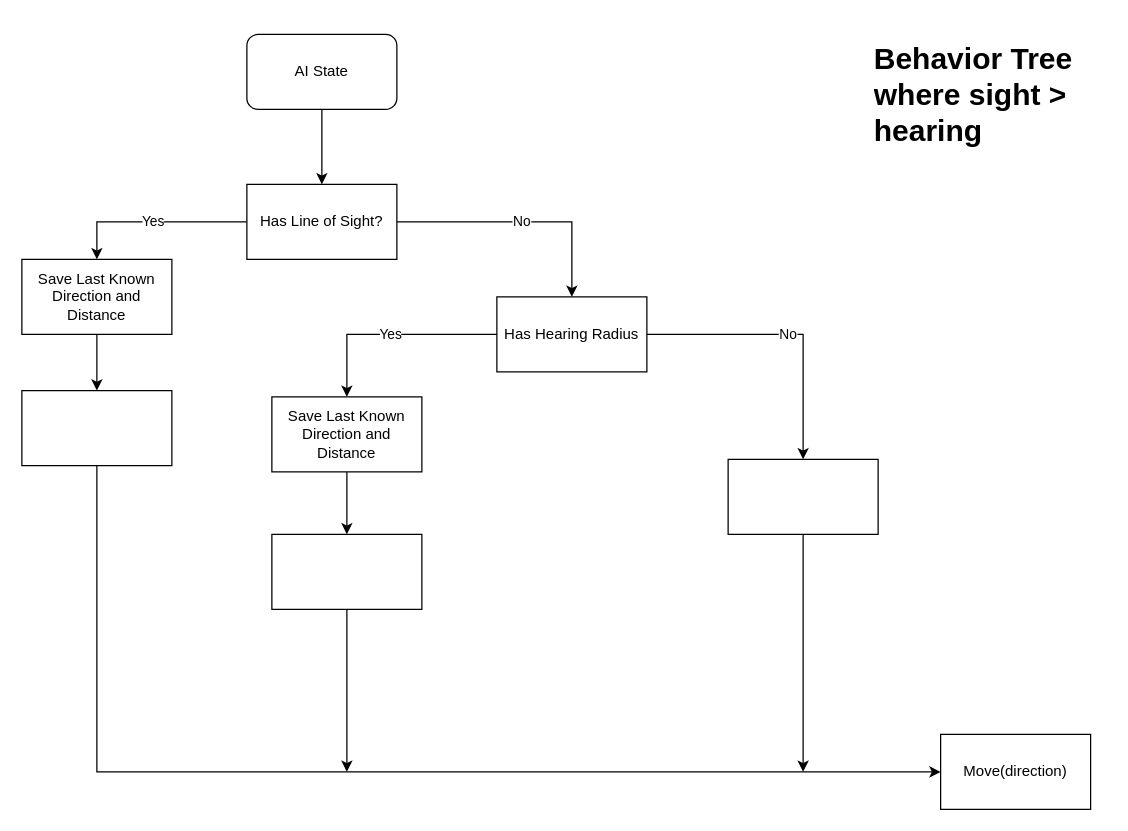
The diagram is 1128 pixels wide and 831 high, and some of its shapes have lost their labels. Here are the shapes that lost their labels. From the top down, the centre of each, then its label:
[96,427]: Run Away (direction, distance, location of self)
[802,496]: Run Away (last known direction of hearing, location of self)
[346,571]: Run Away (direction of hearing, location of self)
